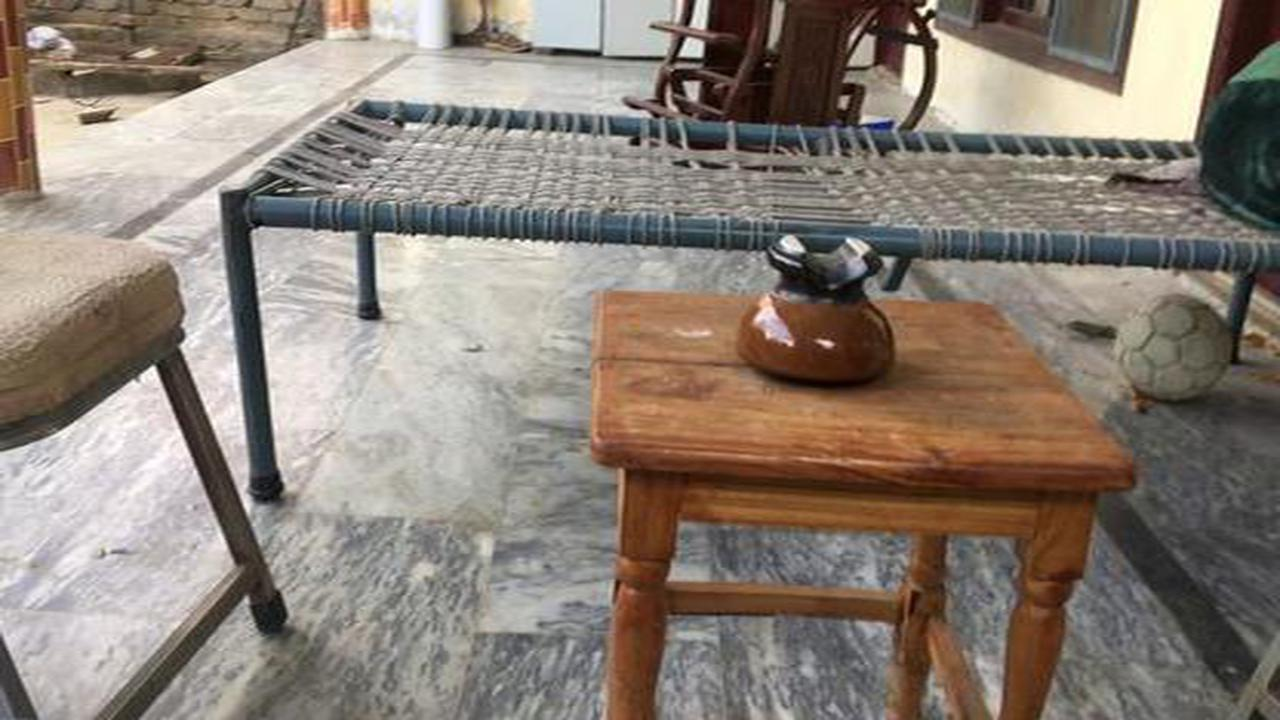insulator_pin: (717, 212, 917, 400)
